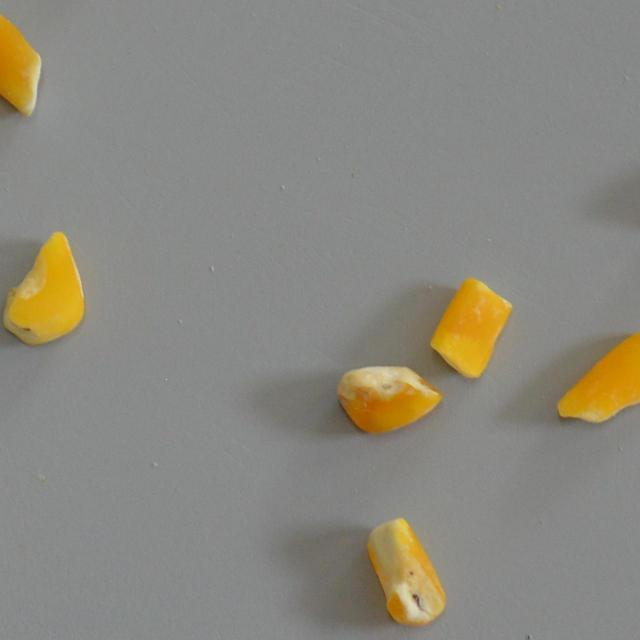dañado: (0, 229, 88, 348), (364, 513, 447, 630), (428, 273, 514, 382), (334, 360, 445, 438), (554, 328, 640, 426), (0, 4, 46, 122)
